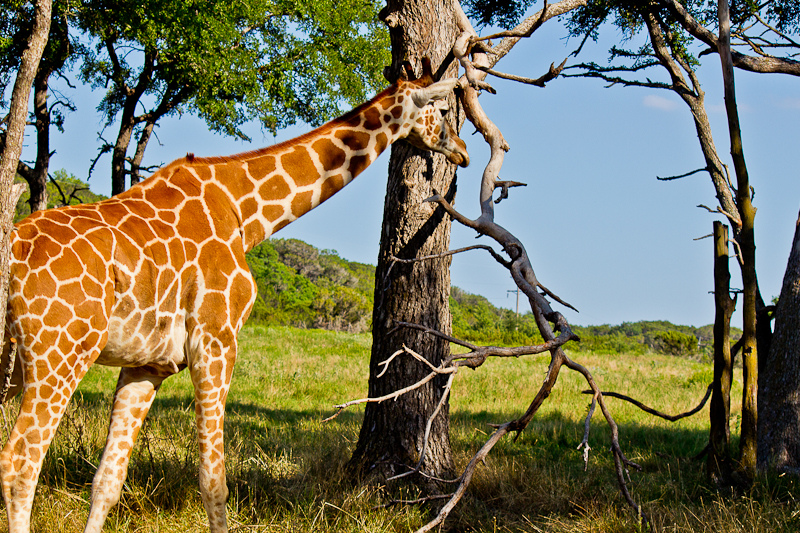giraffe: (23, 49, 498, 510)
